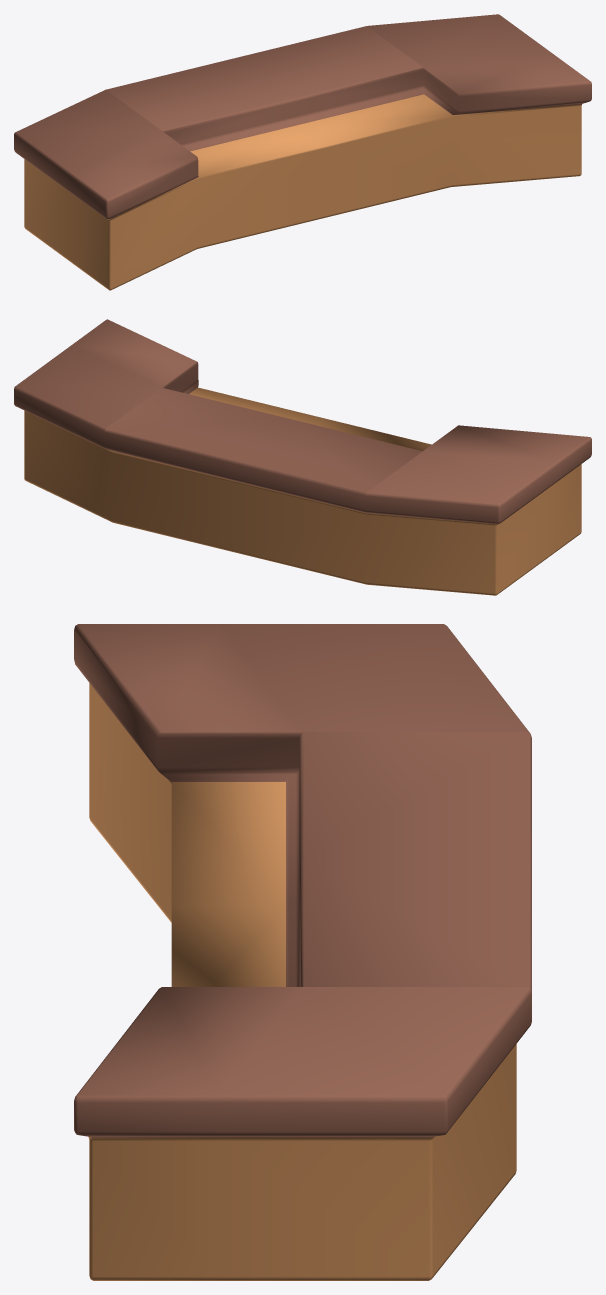
The model's file is MDL_counterorder.fbx.
3 views of the same model, one above another, from view 1: azimuth 30°, elevation 25°; view 2: azimuth 150°, elevation 25°; view 3: azimuth 270°, elevation 25° (orthographic). The views are drawn at different scales.
Parts seen in each view (by area): view 1: mesh_counterorder; view 2: mesh_counterorder; view 3: mesh_counterorder.
Boxes of the visible parts, <box> form: mesh_counterorder: <box>14,14,591,290</box>; mesh_counterorder: <box>14,319,591,595</box>; mesh_counterorder: <box>74,624,531,1280</box>.
Bounding box in the file's own units: 300 × 56.67 × 122.
Materials: 1 (1 with a texture image).
